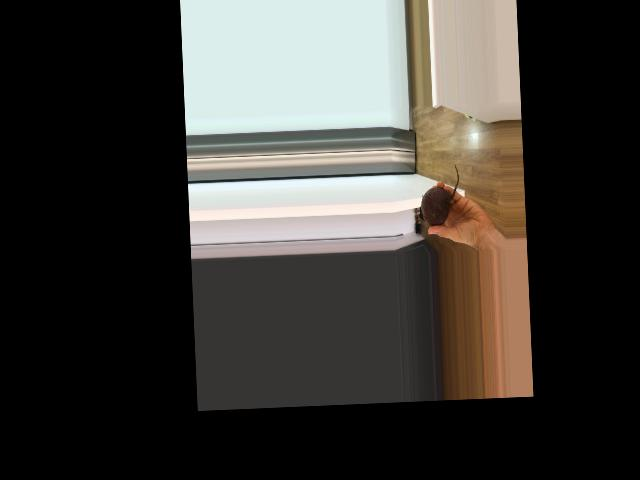beet: (417, 164, 461, 226)
